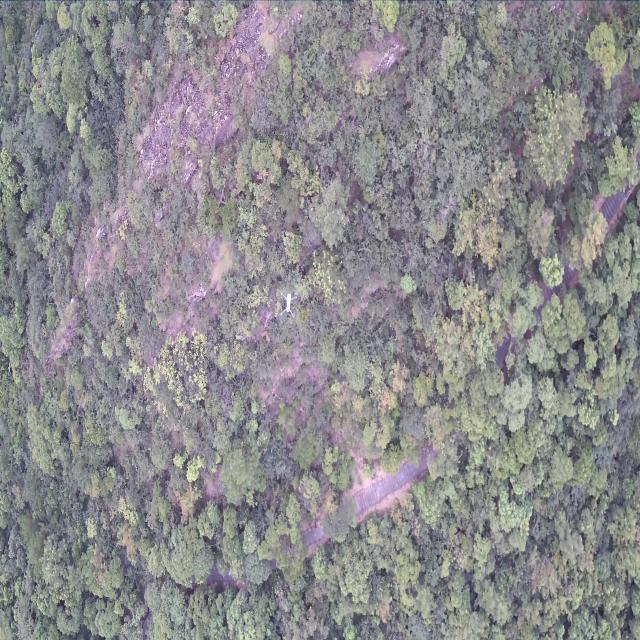UAV: (280, 292, 297, 318)
